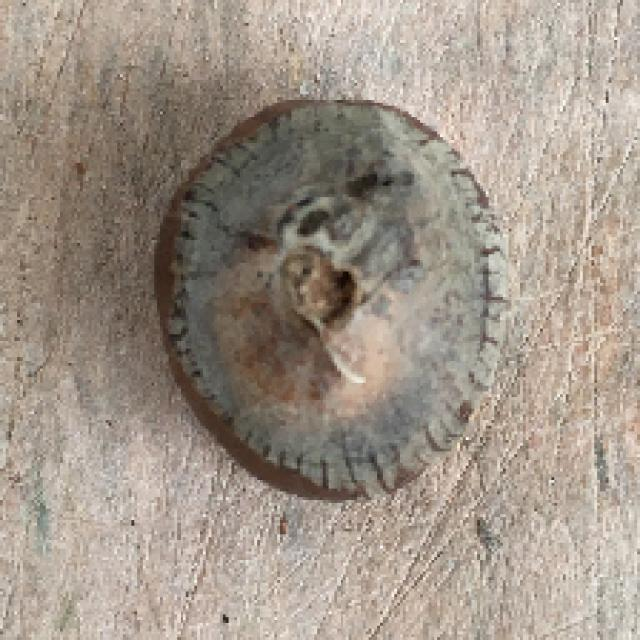damagedHazelnut: (134, 77, 511, 517)
